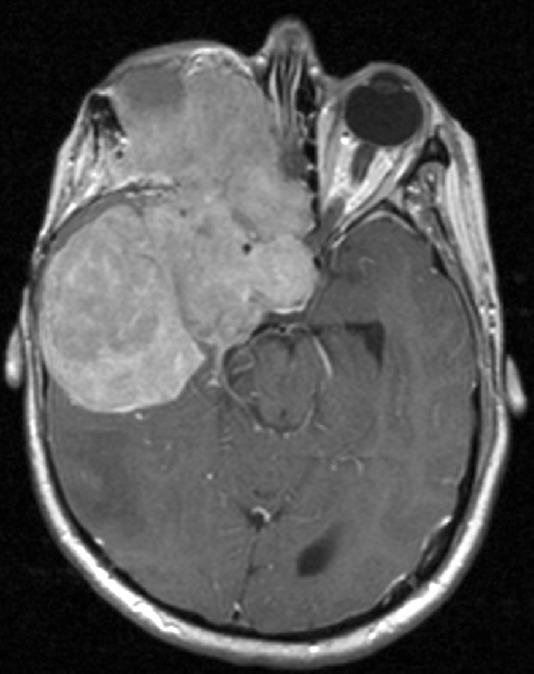Tumour-Meningioma: (20, 1, 321, 499)
